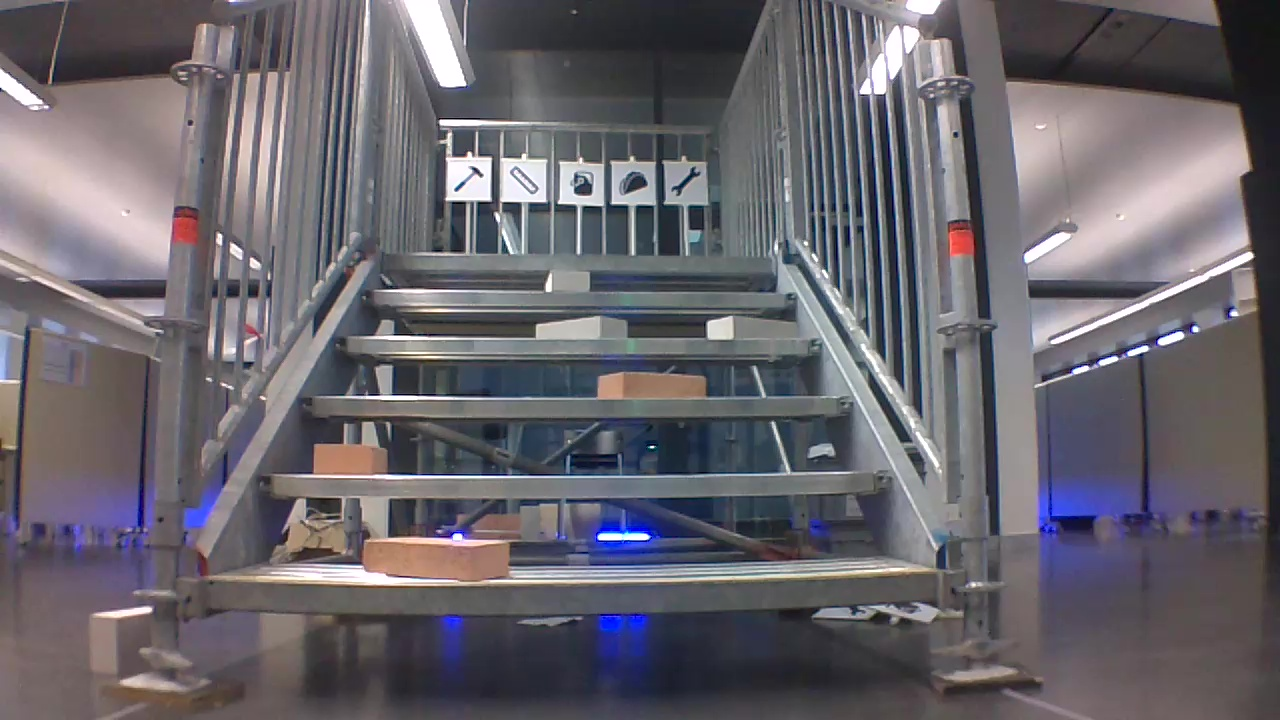brick: (360, 537, 512, 581), (92, 605, 150, 672), (595, 371, 709, 400), (311, 439, 387, 477), (706, 316, 803, 342), (532, 315, 630, 339), (543, 269, 589, 294)
bucket: (569, 170, 594, 198)
edge: (202, 562, 944, 614), (261, 471, 884, 498), (306, 395, 855, 420), (365, 286, 799, 310), (383, 252, 775, 269), (345, 338, 823, 351)
hammer: (453, 166, 484, 193)
ruler: (510, 165, 538, 195)
stairs: (155, 0, 993, 698)
steps: (198, 252, 948, 621)
taco: (618, 167, 646, 196)
wrench: (671, 166, 702, 197)
